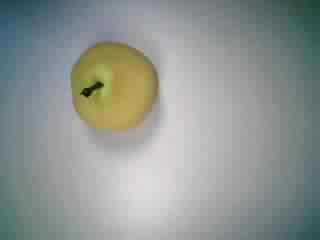pear: (58, 36, 163, 144)
